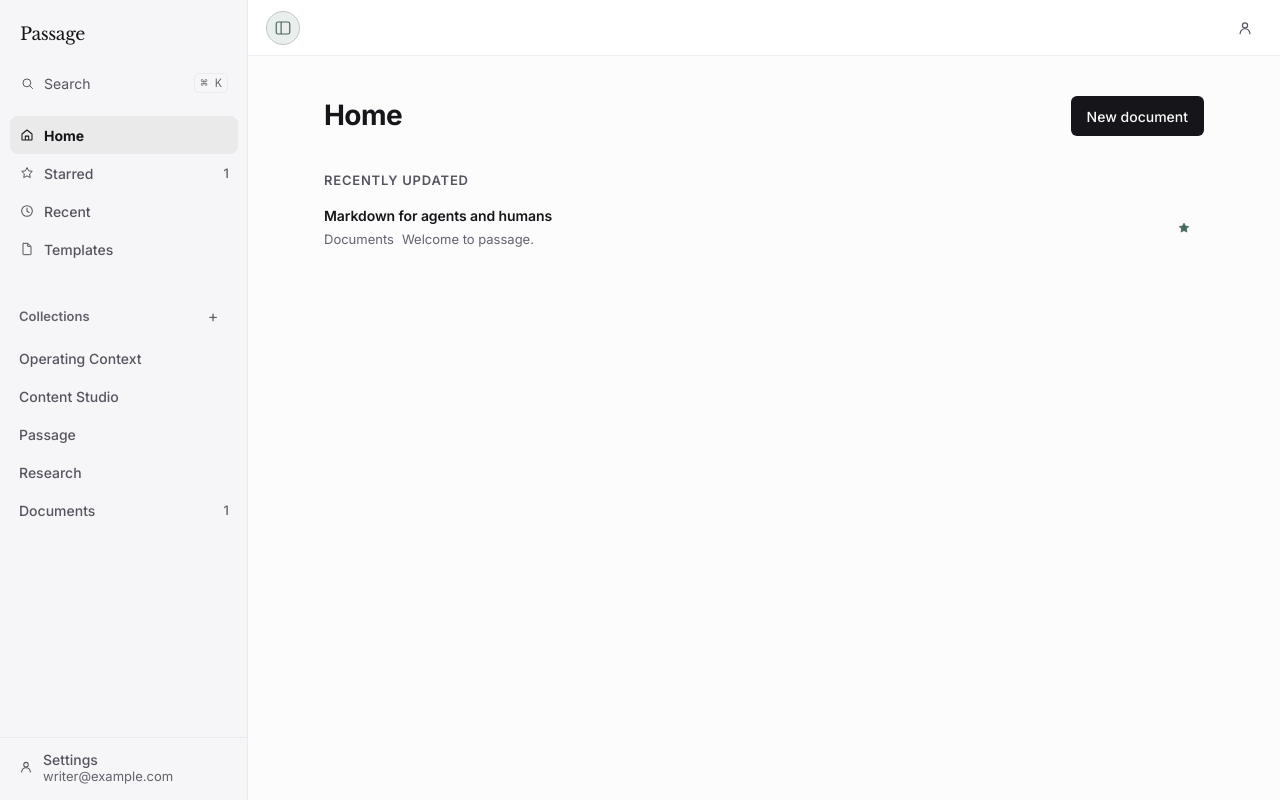
Test: Write (editor) › deletes a template and frees its library slot
This screenshot has width=1280, height=800.
Click the button with class "workspaceDocumentOpen".
click(438, 216)  # box [324,194,1168,262]
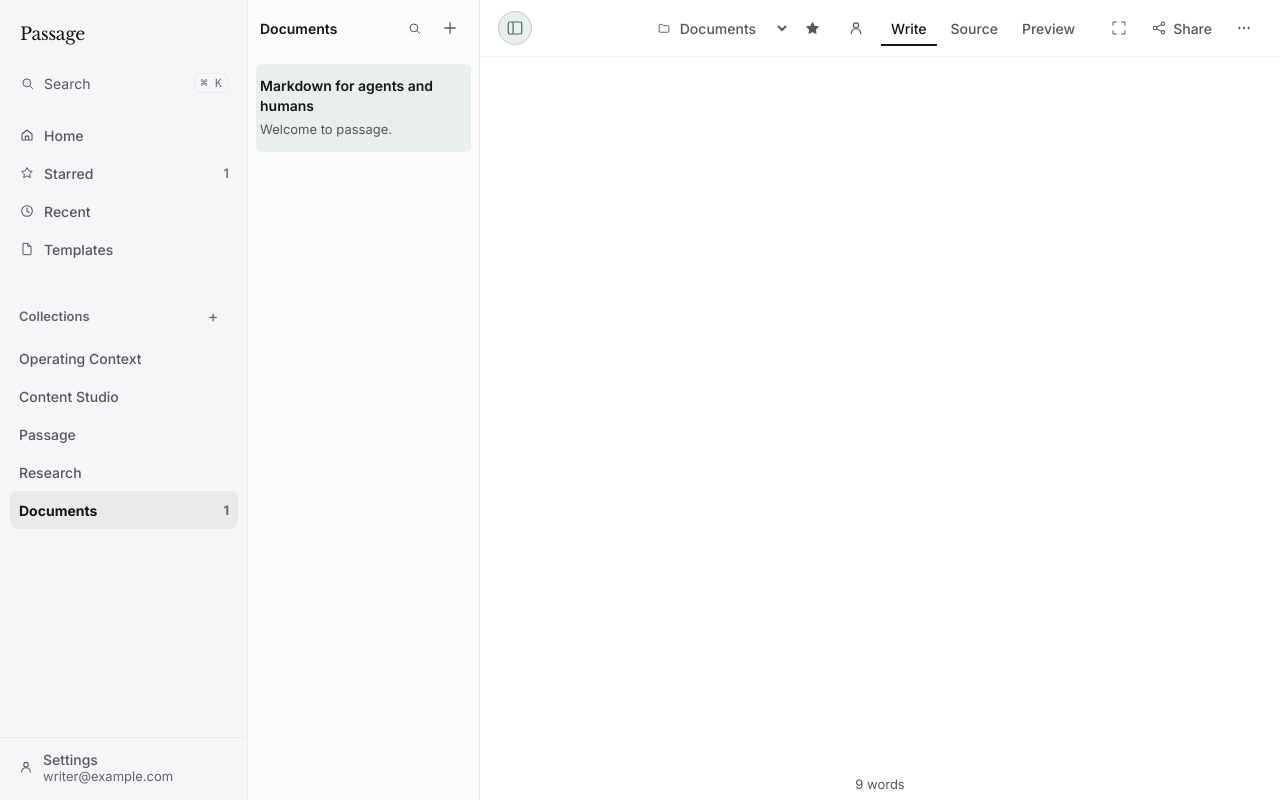
Click the button "Templates".
click(124, 249)  # box [10,230,238,268]
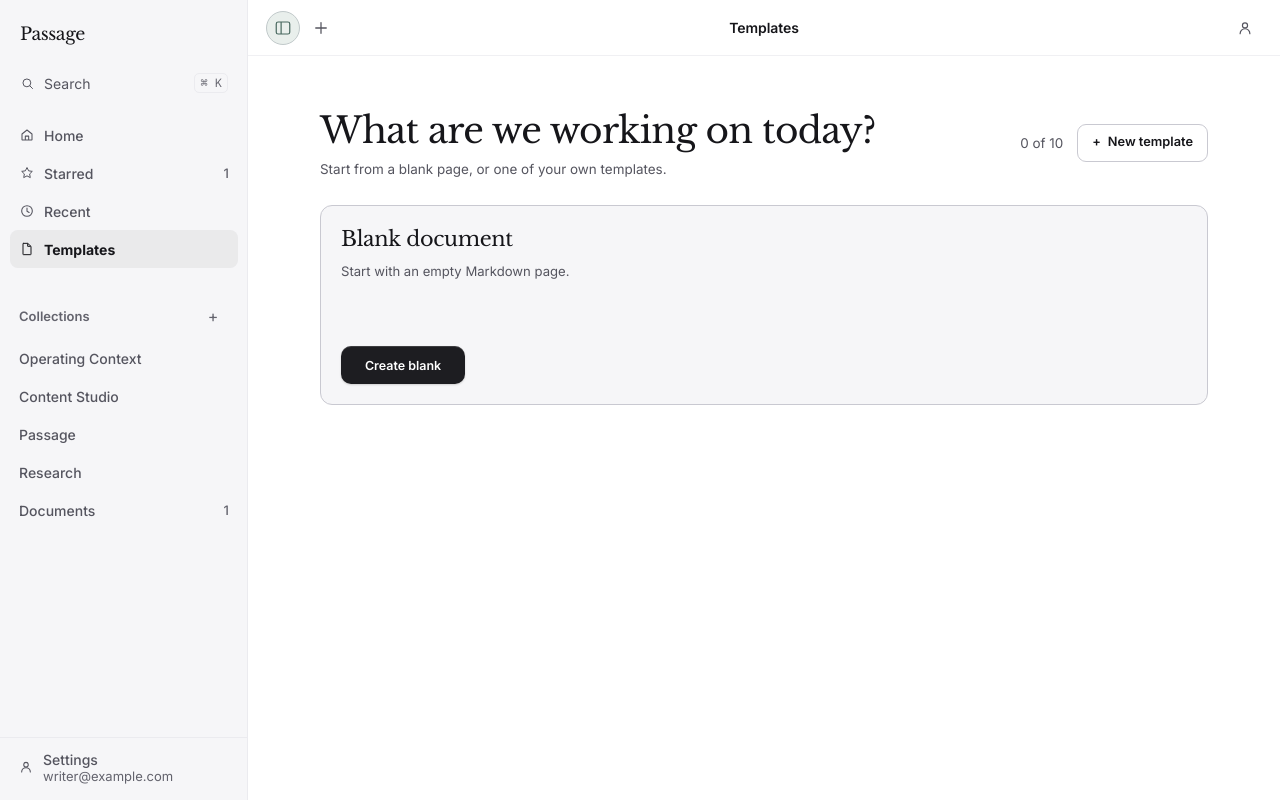
Click the button "+ New template".
click(1143, 142)  # box [1077,124,1208,162]
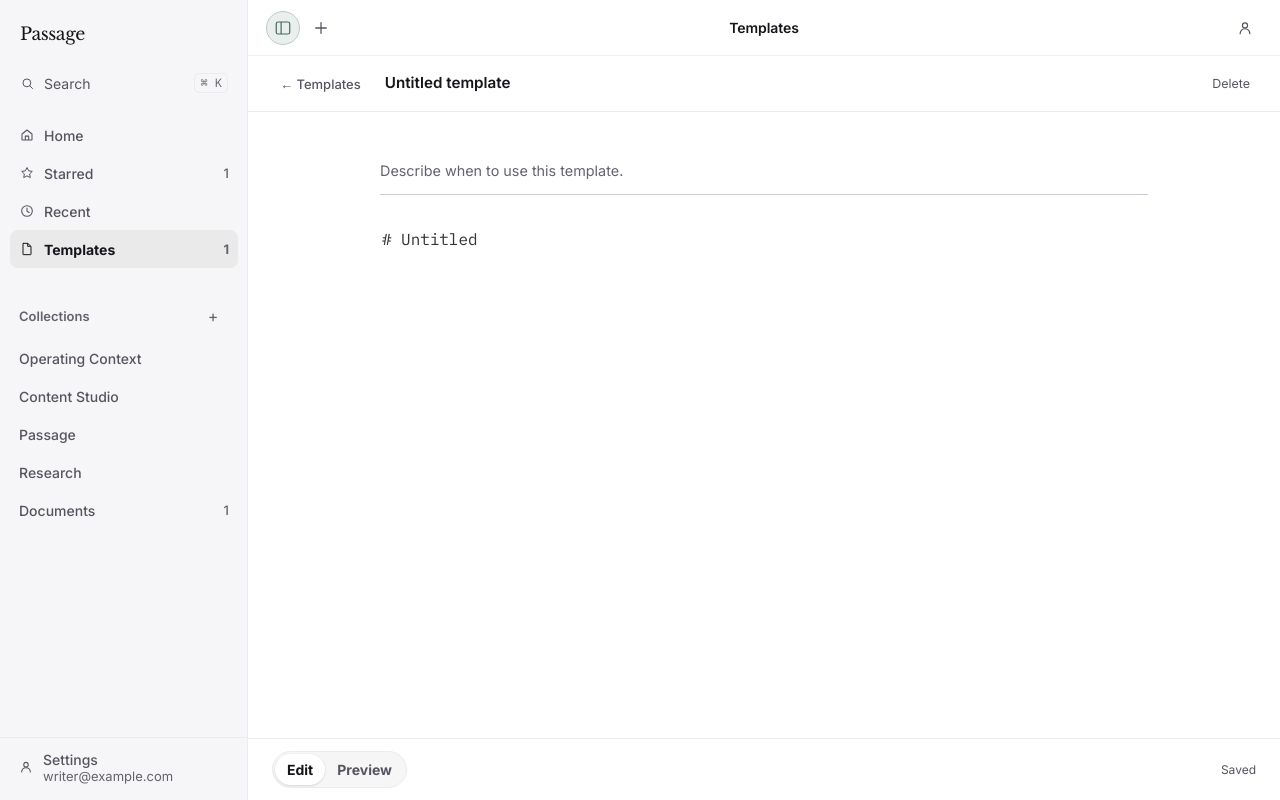
Now the field named "Template title" is shown, box [383,68,1192,99]
Click the button with aria-label "Back to templates".
click(320, 84)  # box [272,70,369,98]
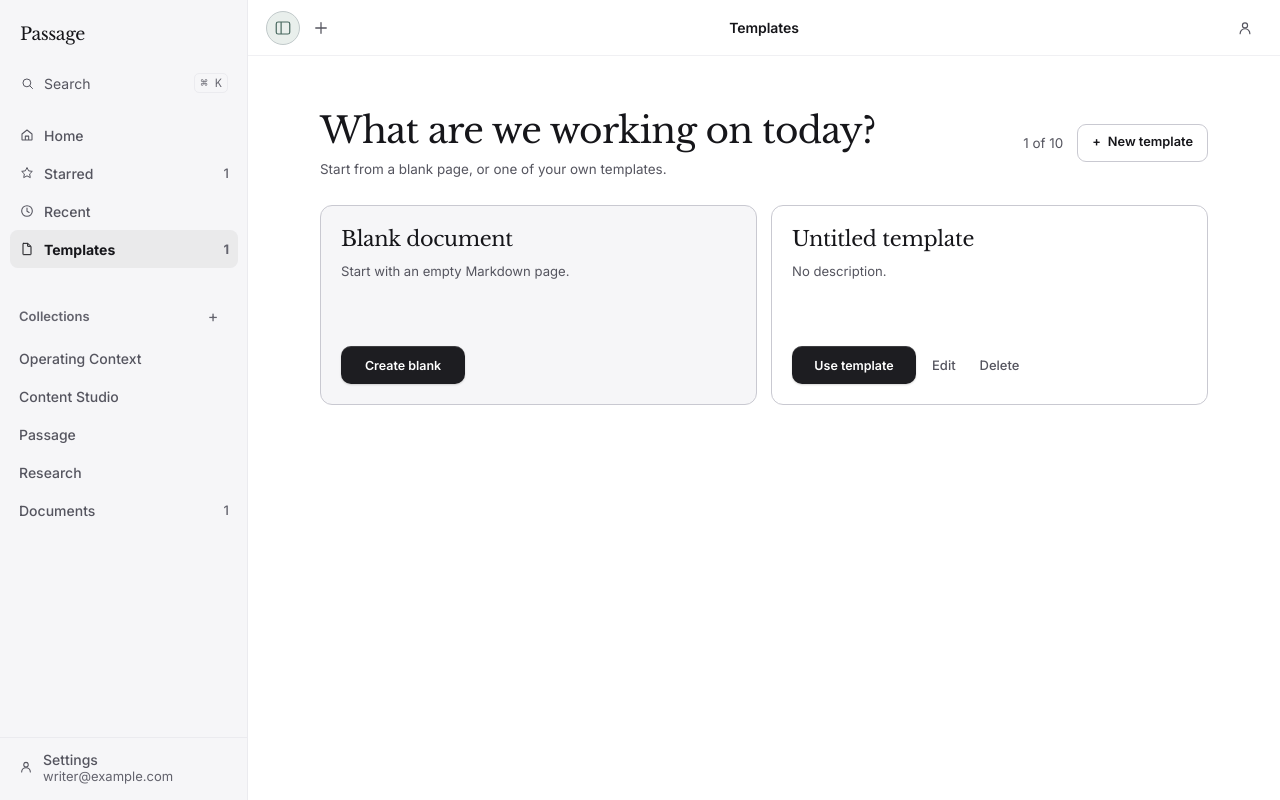
Now the text "No description." is shown, box [792,263,887,279]
Click the button with aria-label "Delete Untitled template".
click(1000, 365)  # box [972,351,1028,379]
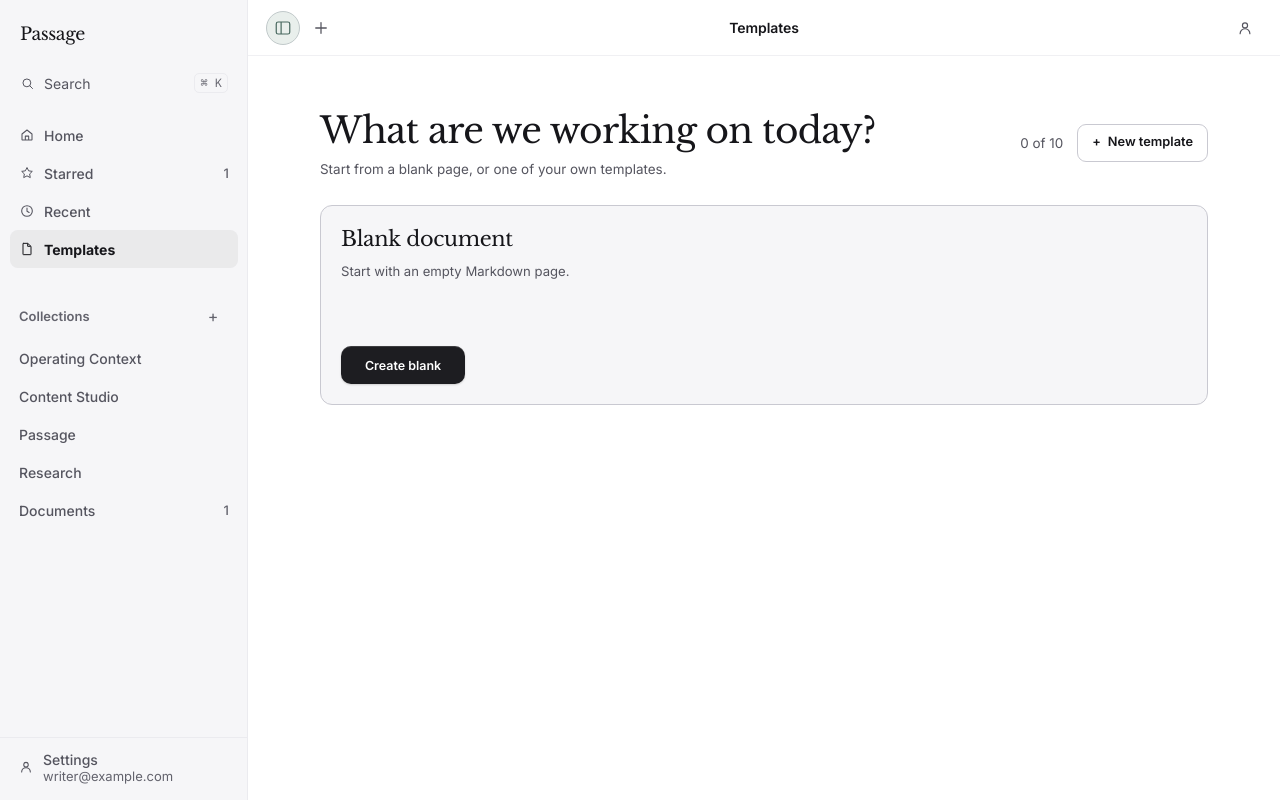
Now the text "0 of 10" is shown, box [1020,134,1063,150]
Now the heading "Untitled template" is gone
